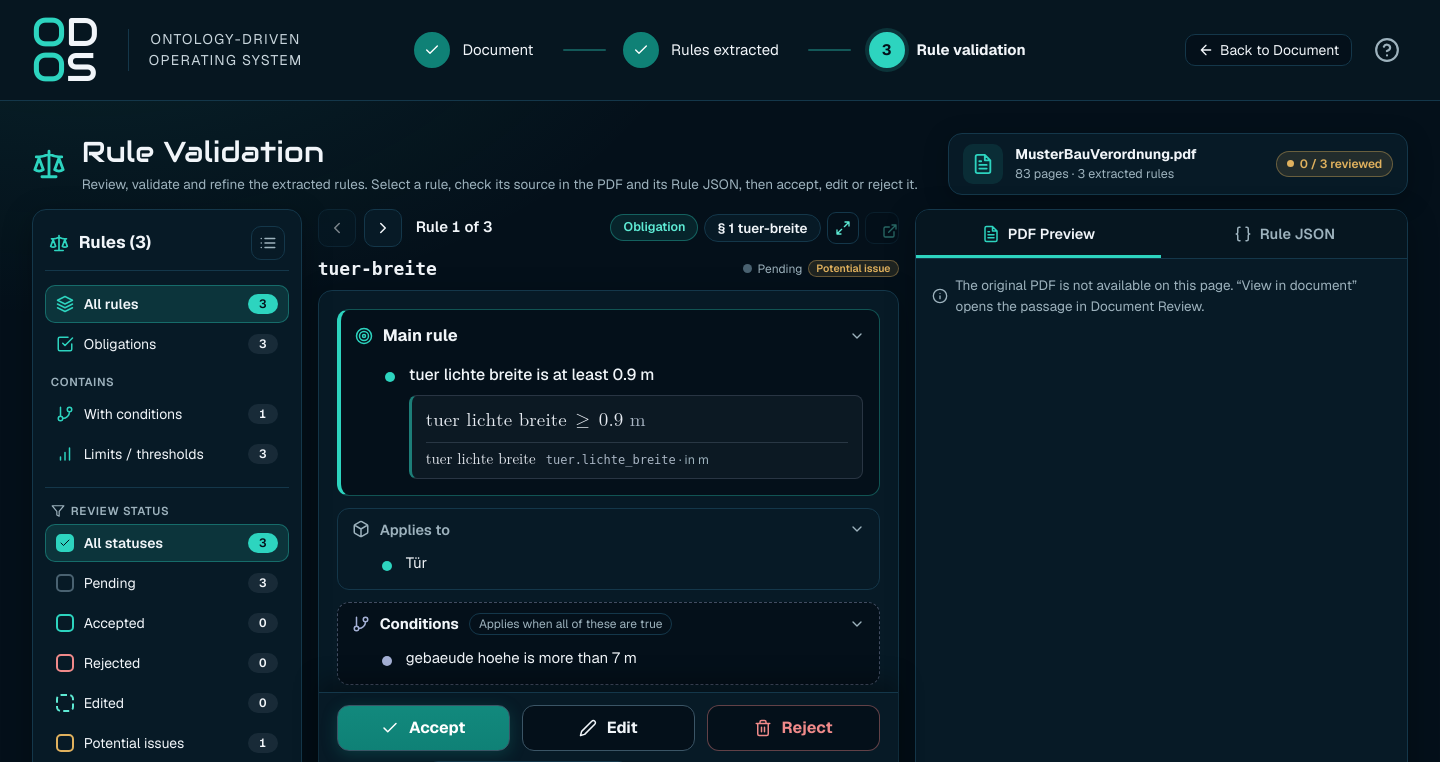
Test case: with review storage › stays on the decided rule when the next-open-rule option is off, and remembers the option
What coordinates should you click on to do the following:
click the button named "Rule list"
I would click on:
 (268, 243)
Its box is [251,226,285,260].
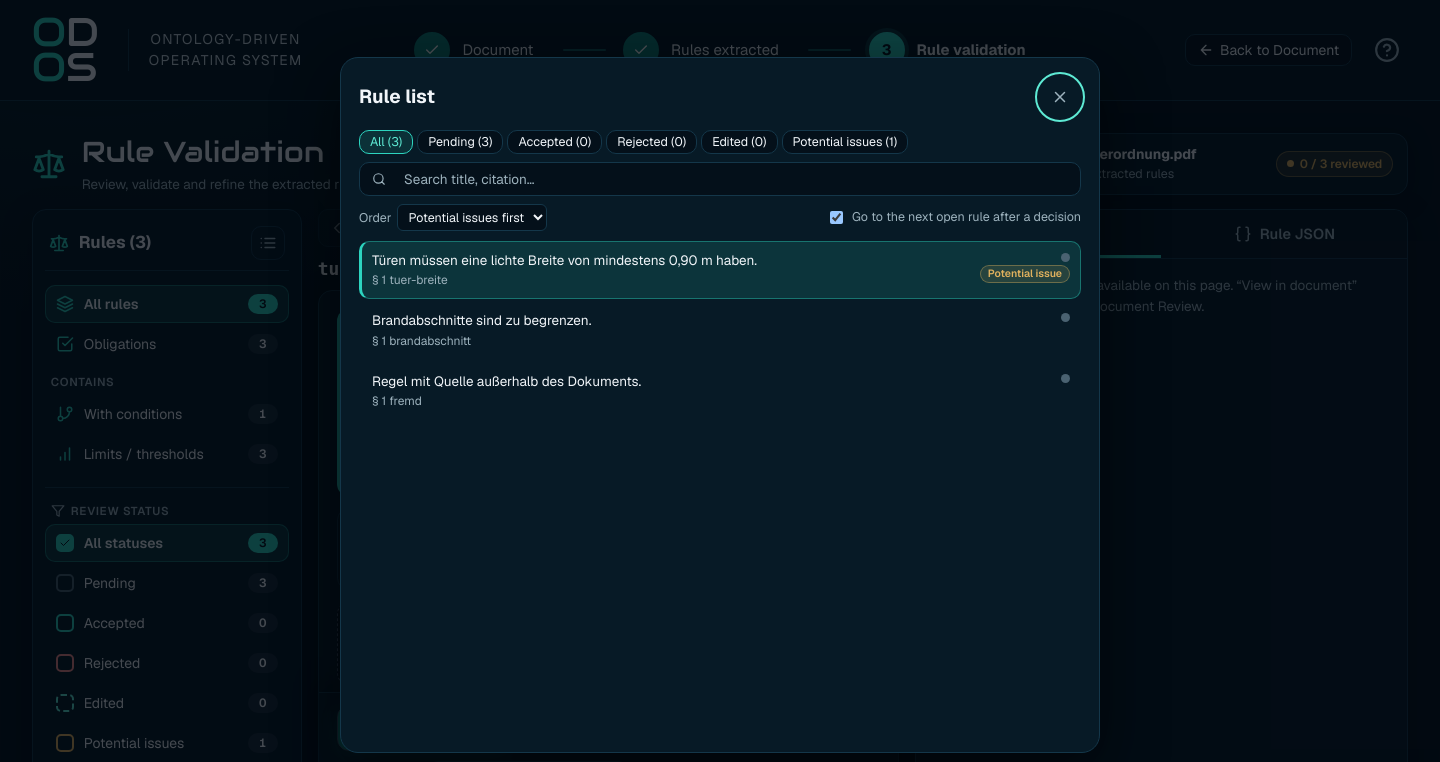
What coordinates should you click on to do the following:
click the checkbox labelled "Go to the next open rule after a decision"
I would click on:
 (836, 218)
Its box is [830,211,843,224].
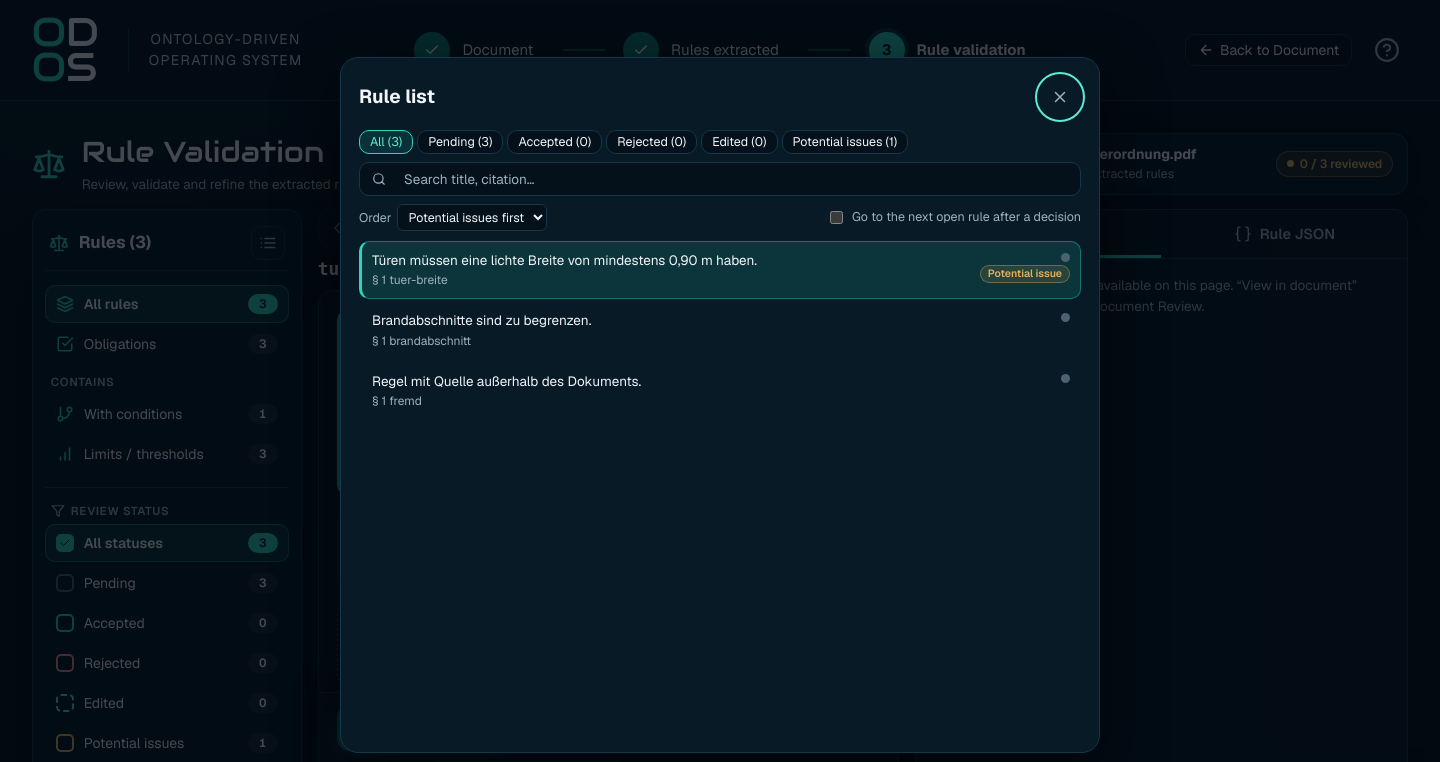
What coordinates should you click on to do the following:
click the button named "Close"
I would click on:
 (1060, 97)
Its box is [1039,76,1081,118].
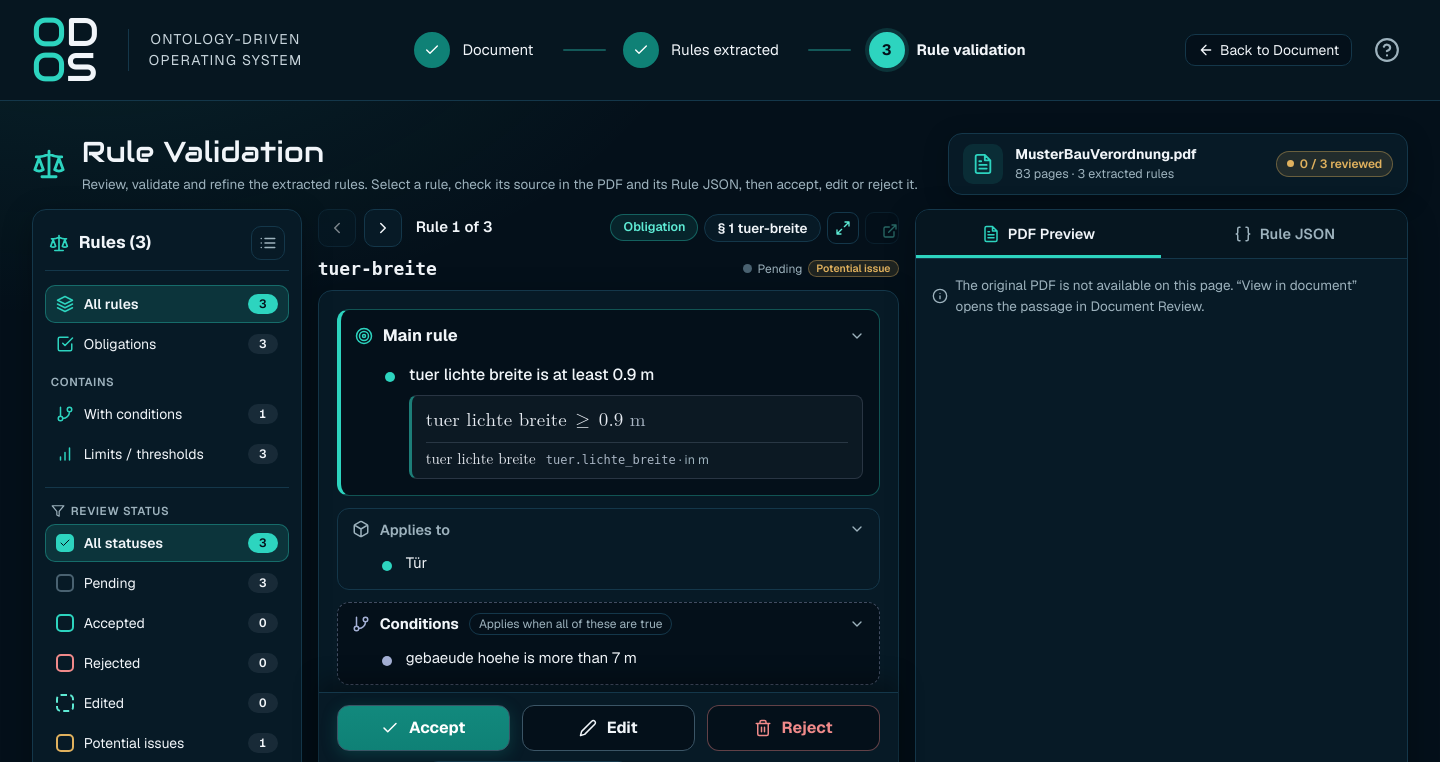
What coordinates should you click on to do the following:
click the button with class "rex-choice" showing "Accept"
I would click on:
 (423, 728)
Its box is [337,705,510,751].
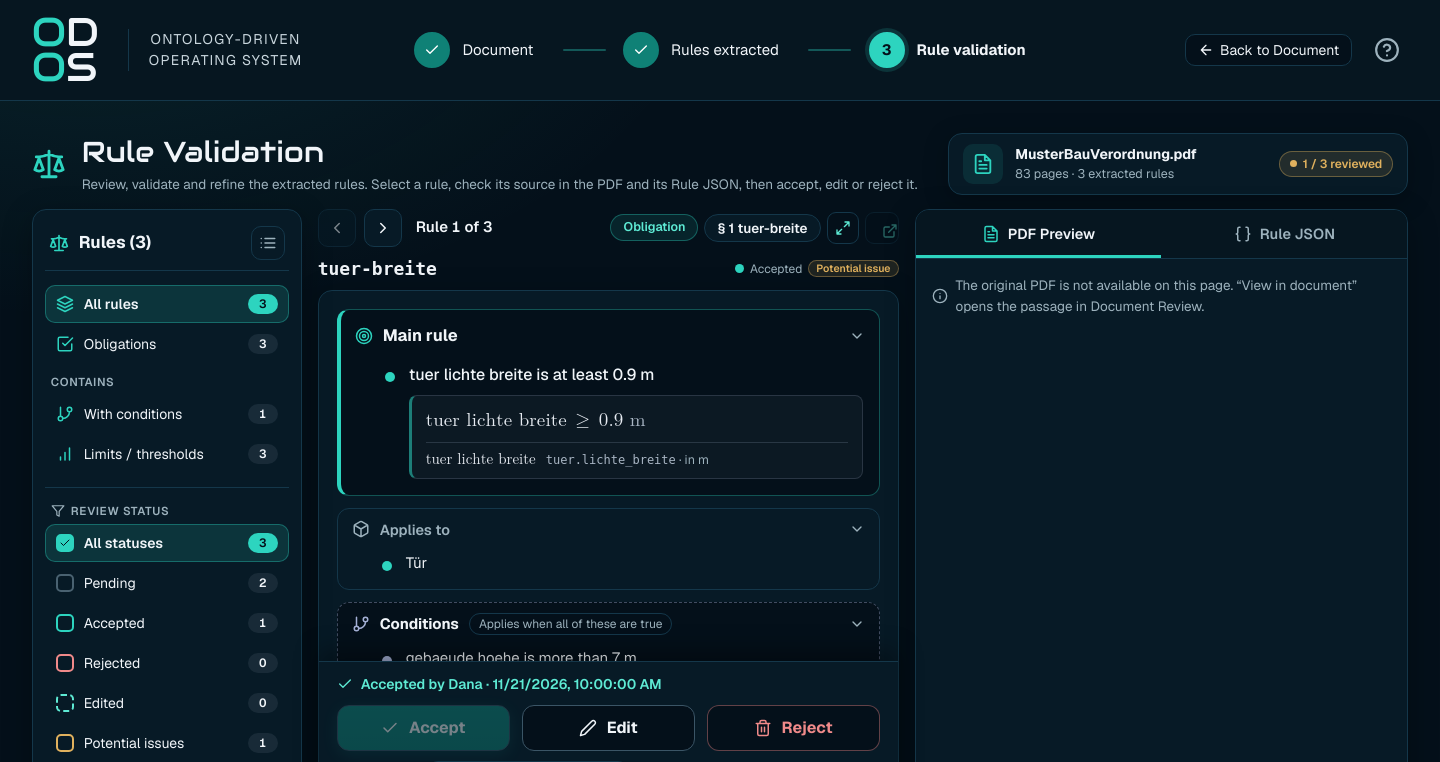
Now the message with class "rex-decided" shows "Accepted by Dana", box [361,675,662,693]
